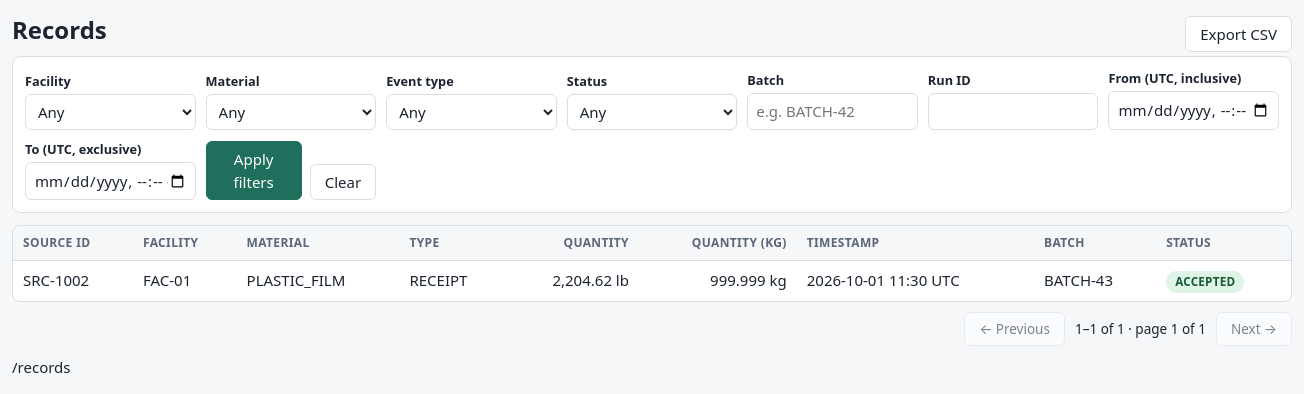
Test: Records › writes applied filters to the URL and the export link carries them
Expected: the text "SRC-1002" is shown, [13, 261, 133, 301]
Select "RECYCLED RESIN" in the dropdown labelled "Material" at (291, 112), box [206, 94, 376, 130]
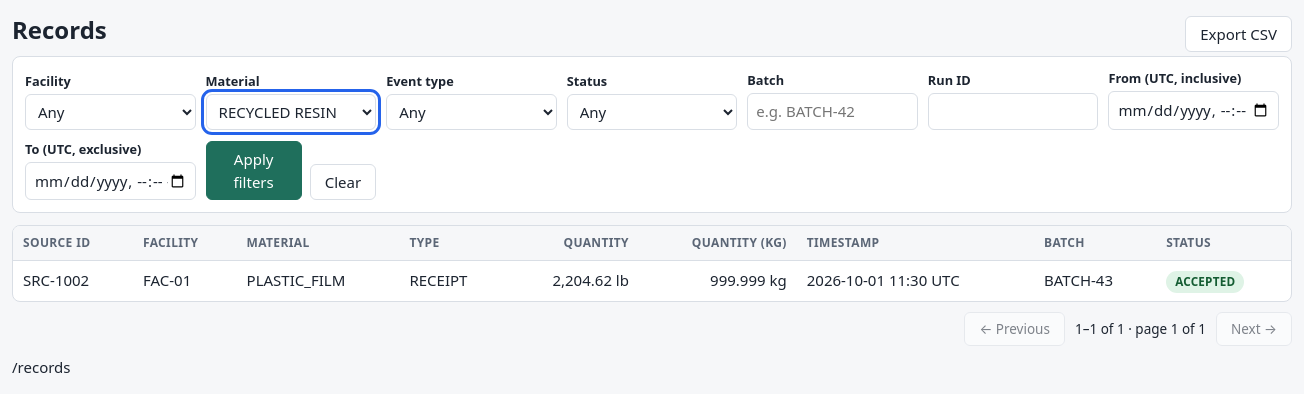
Type "BATCH-42" into the field labelled "Batch" at (833, 111), box [747, 93, 918, 130]
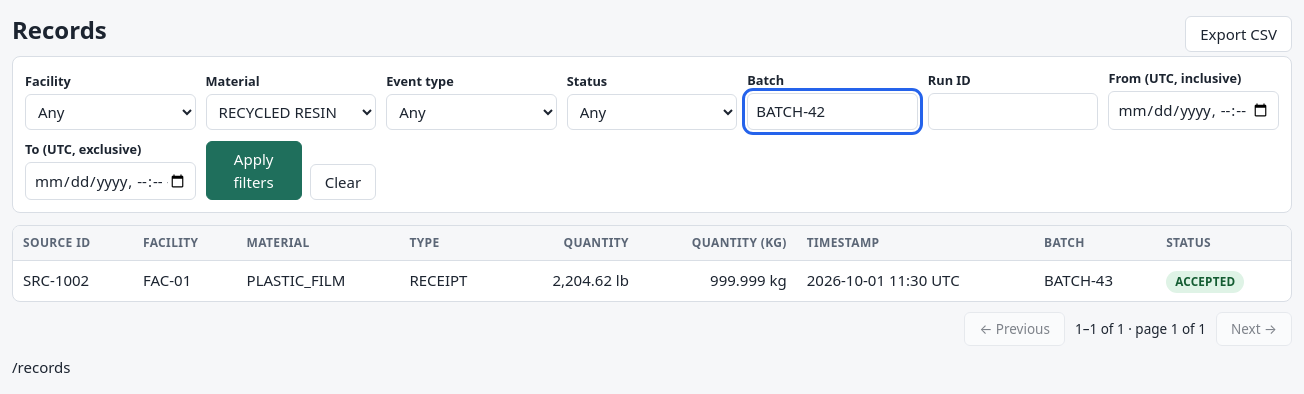
Click the button "Apply filters" at (254, 171), box [206, 141, 302, 200]
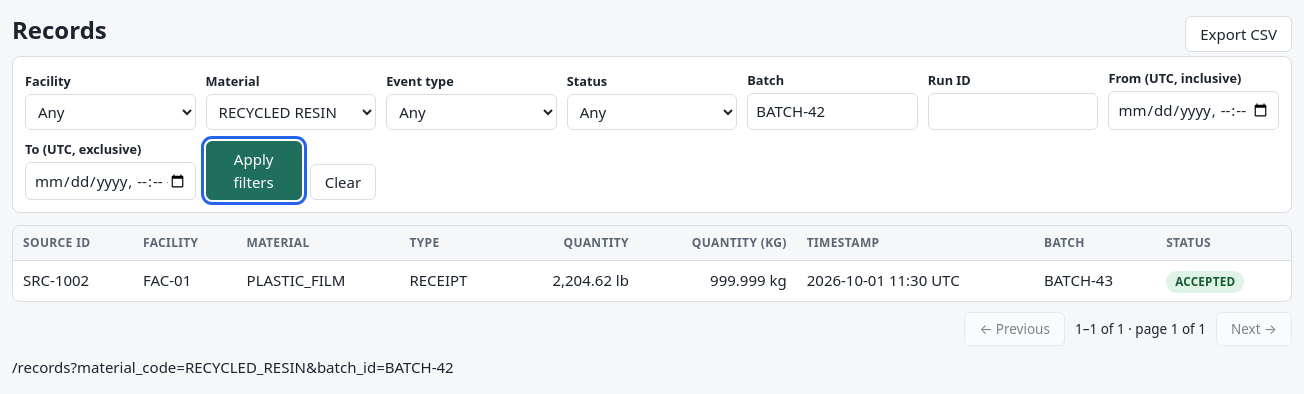
Result: the text with test id "location" reads "/records?material_code=RECYCLED_RESIN&batch_id=BATCH-42" at [12, 357, 454, 377]
